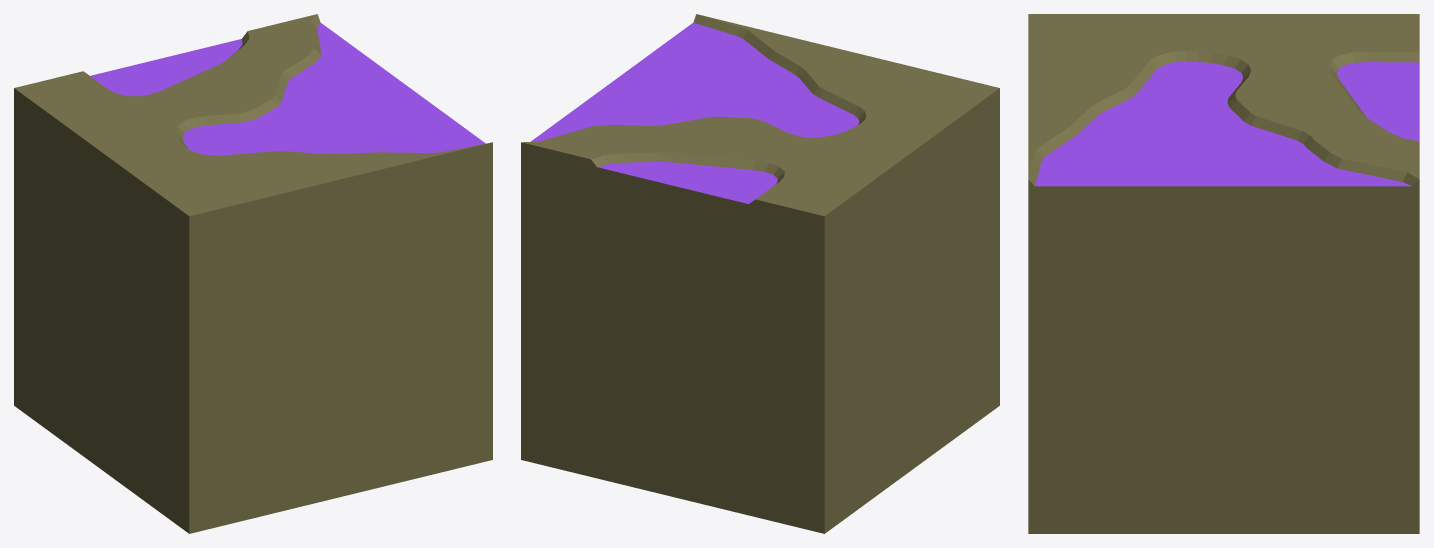
File: tile_toxic_4b_02.fbx
The picture shows the model from 3 angles, left to right: view 1: azimuth 30°, elevation 25°; view 2: azimuth 150°, elevation 25°; view 3: azimuth 270°, elevation 25°; orthographic projection. The views are drawn at different scales.
Parts seen in each view (by area): view 1: tile_toxic_4b_02; view 2: tile_toxic_4b_02; view 3: tile_toxic_4b_02.
Boxes of the visible parts, box(x1,y1,x2,y2) form: tile_toxic_4b_02: box(14, 14, 492, 533); tile_toxic_4b_02: box(521, 14, 999, 533); tile_toxic_4b_02: box(1028, 14, 1419, 533).
Bounding box in the file's own units: 100 × 100 × 100.
